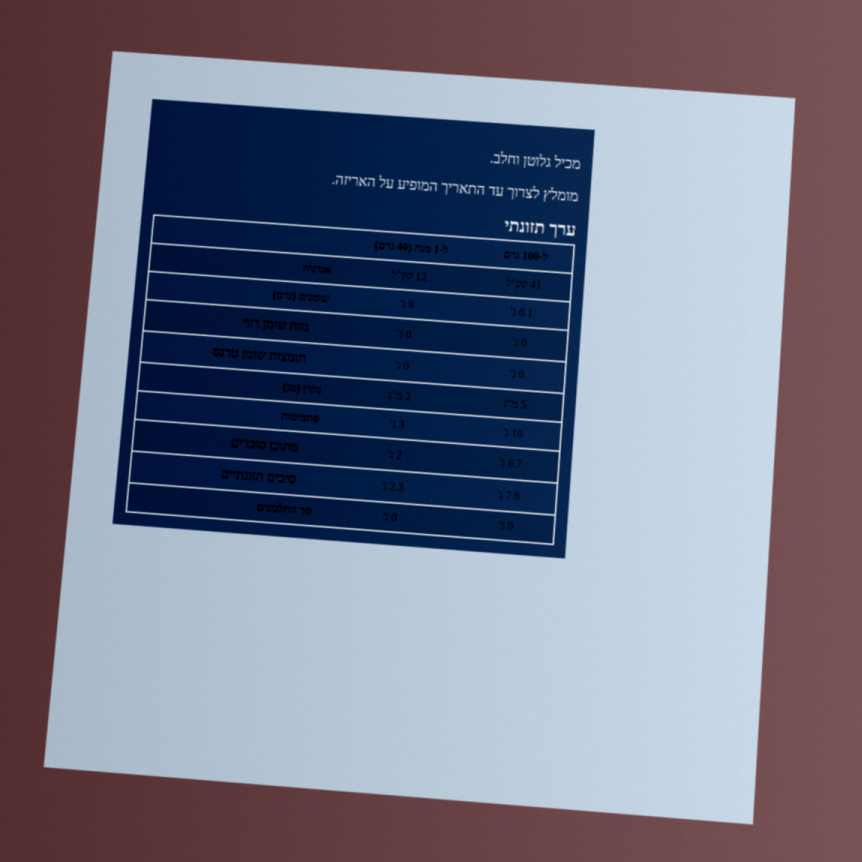carbs: (501, 424, 525, 441)
energy: (504, 275, 544, 293)
fat: (508, 304, 535, 321)
protein: (497, 517, 515, 534)
